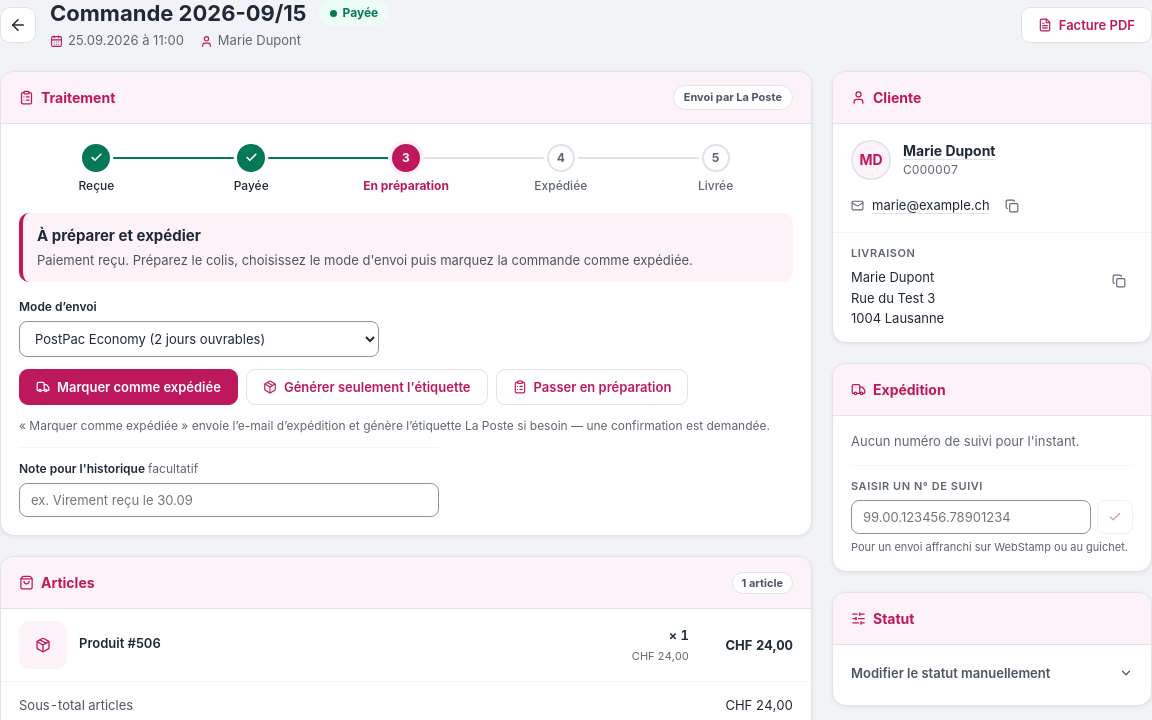
it: OrderDetail — Traitement › payée : expédition proposée, avec confirmation avant tout e-mail ou étiquette
Expected: the text "À préparer et expédier" is shown, [37,226,201,246]
Expected: the dropdown labelled "Mode d’envoi" shows "PostPac Economy (2 jours ouvrables)", [19,322,379,358]
Click the button "Marquer comme expédiée" at [128, 388], box [19,370,238,406]
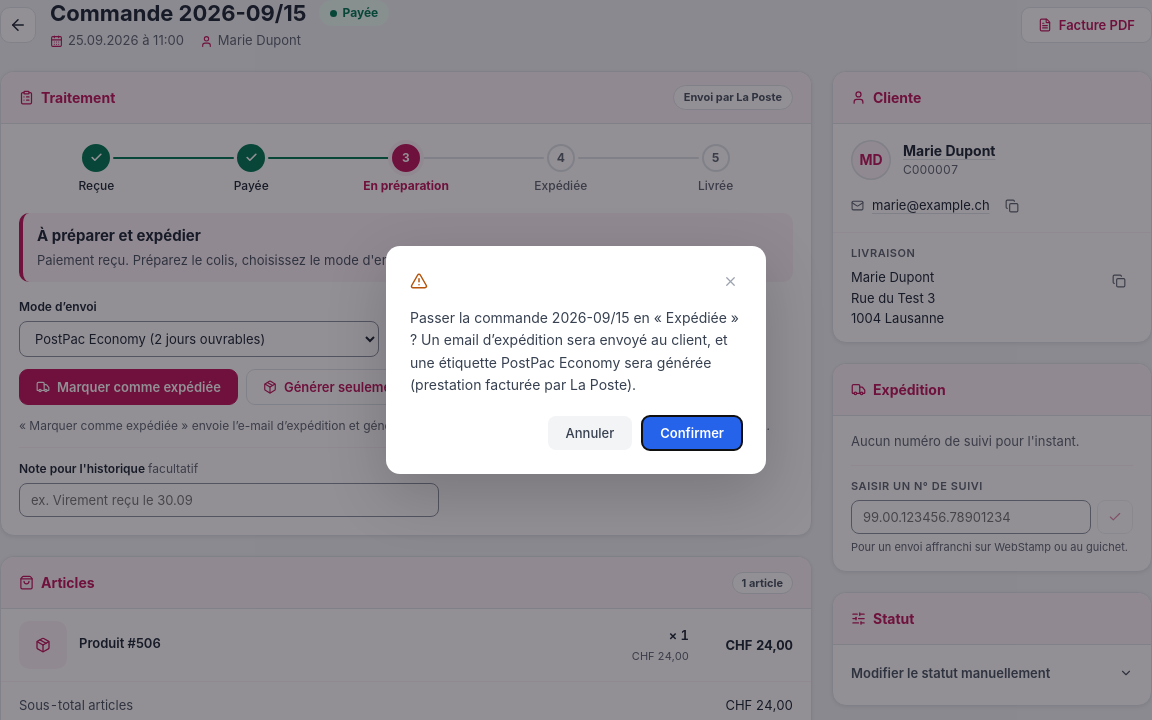
Result: the text "une étiquette PostPac Economy sera générée" is shown at [410,309,739,393]
